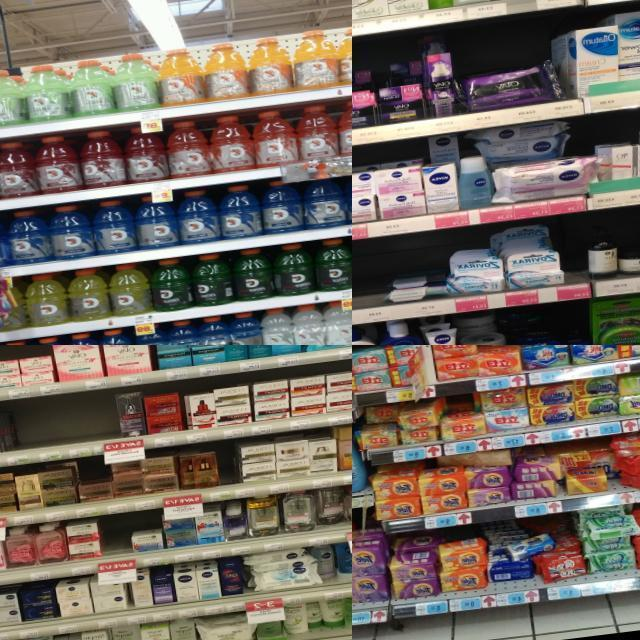Imprecise: (476, 121, 581, 198), (348, 47, 428, 124), (482, 216, 564, 289), (480, 533, 558, 593), (451, 315, 514, 379), (556, 440, 627, 494), (427, 139, 471, 203), (361, 397, 404, 459), (436, 447, 518, 473)
